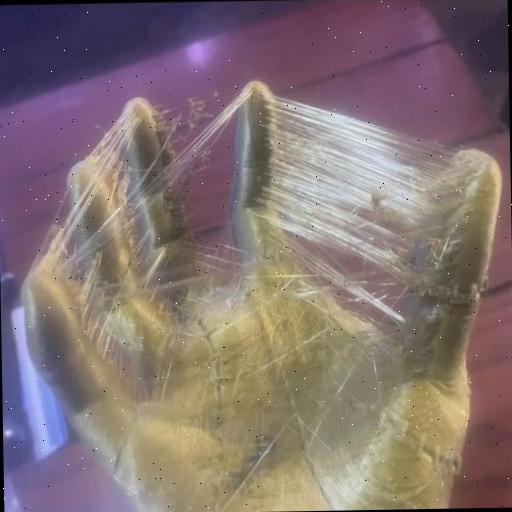stringing: (260, 92, 468, 340)
